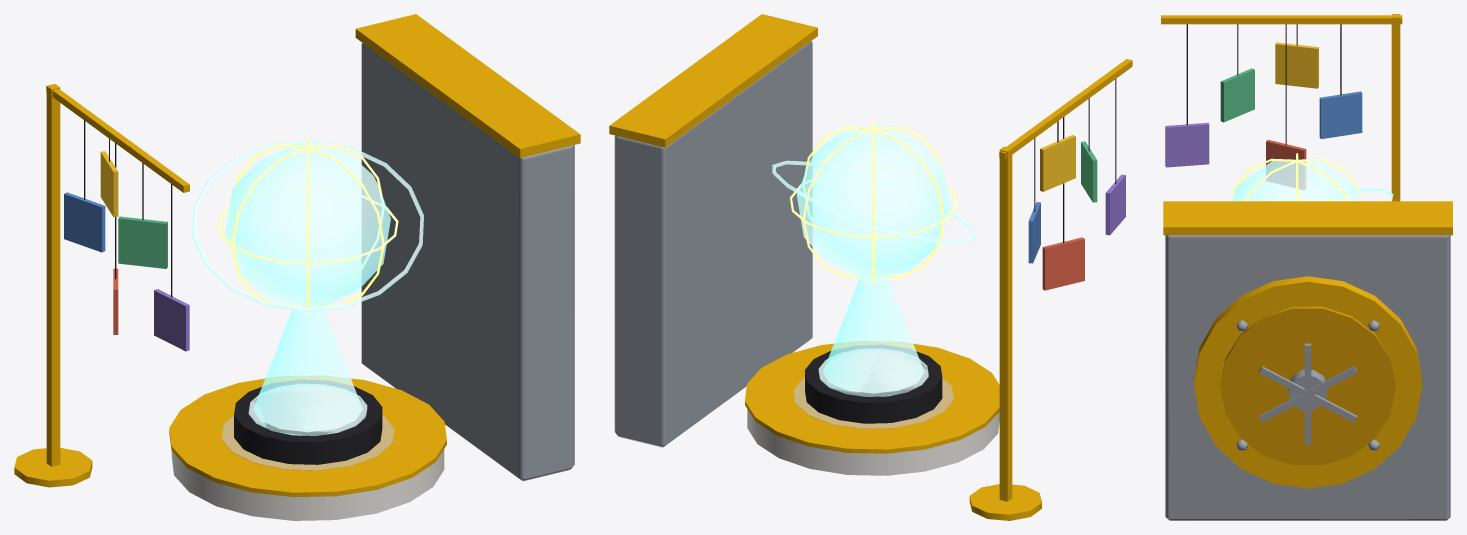
The model's file is station_transport_3.glb.
The picture shows the model from 3 angles, left to right: view 1: azimuth 30°, elevation 25°; view 2: azimuth 150°, elevation 25°; view 3: azimuth 270°, elevation 25°; orthographic projection. The views are drawn at different scales.
Visible parts, largest first — view 1: station_transport_3; view 2: station_transport_3; view 3: station_transport_3.
Boxes of the visible parts, x1,y1,x2,y2 form: station_transport_3: (14, 14, 580, 520); station_transport_3: (609, 14, 1132, 520); station_transport_3: (1161, 14, 1452, 520).
Size of the model in its own units: 2.14 by 1.7 by 1.33.
